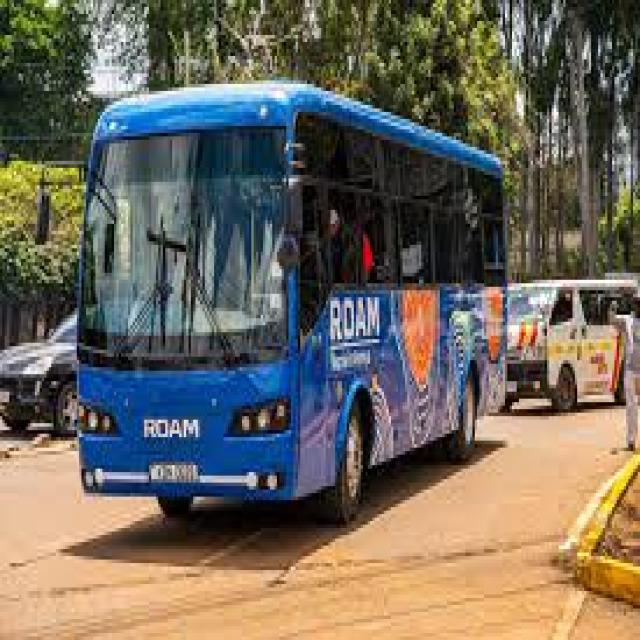bus: (60, 55, 508, 545)
matatu: (514, 262, 640, 423)
